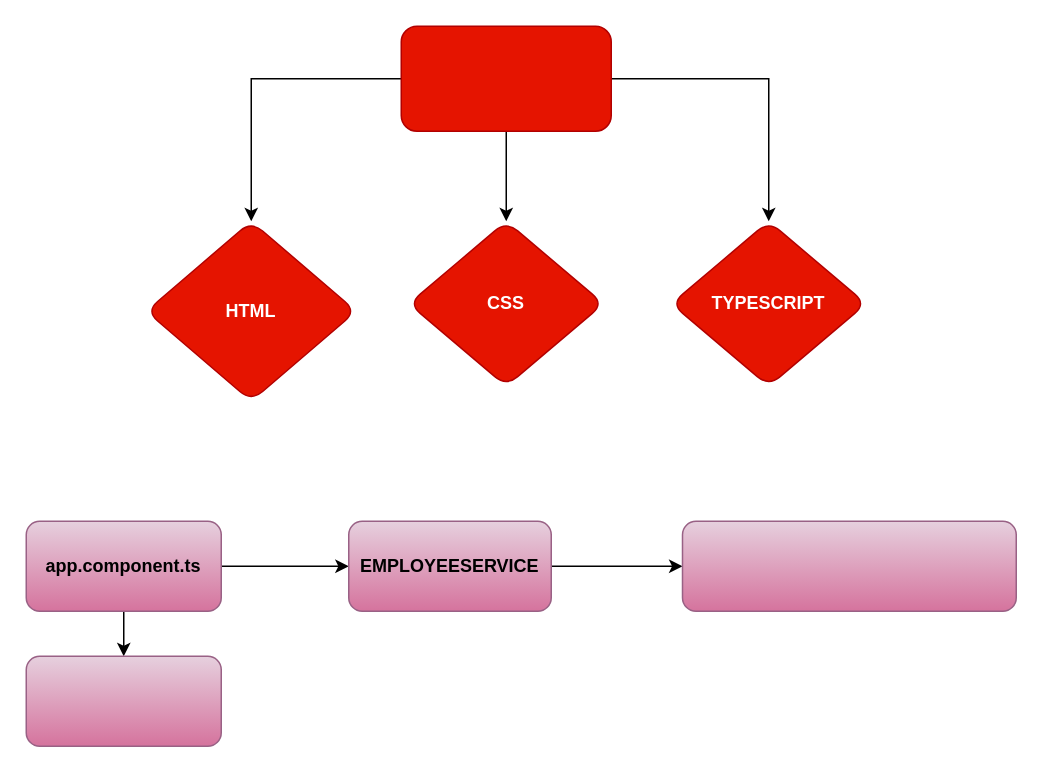
This 1043x773 diagram has some shape labels left out. Each missing label, with the centre of its shape:
"ANGULAR COMPONENT" belongs at pixel 505 78.
"app.component.html" belongs at pixel 123 700.
"http://localhost:3000/employees [JSON SERVER]" belongs at pixel 848 565.
